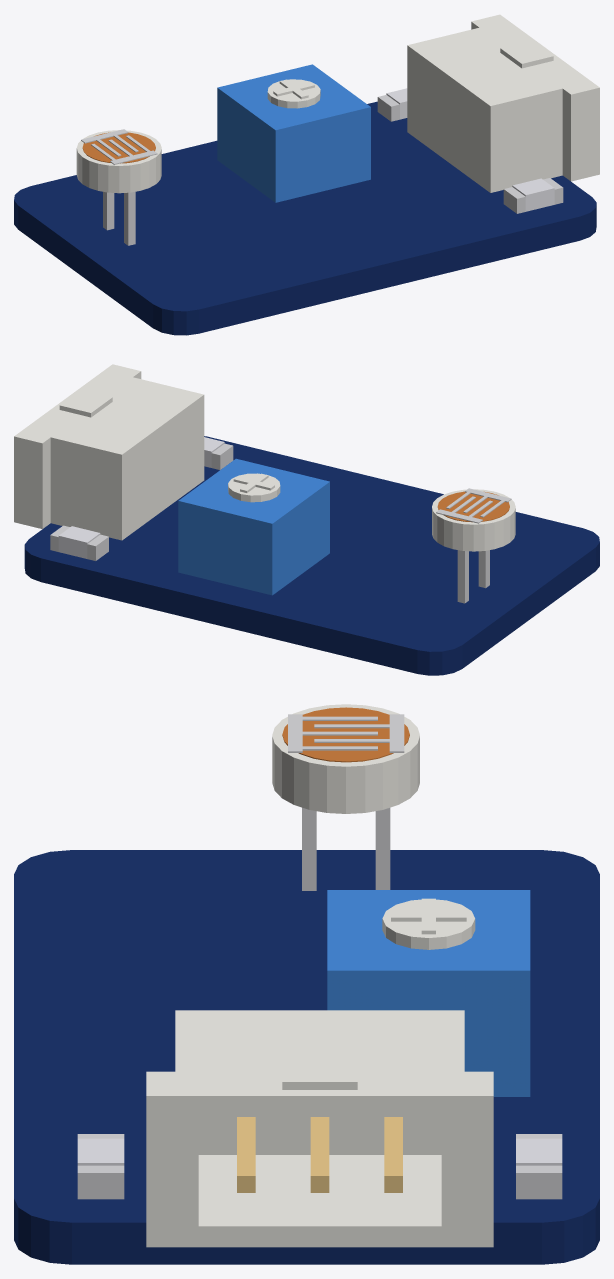
Rendered from ldr.glb.
3 renders of one model, top to bottom at view 1: azimuth 30°, elevation 25°; view 2: azimuth 150°, elevation 25°; view 3: azimuth 270°, elevation 25°, orthographic. The views are drawn at different scales.
Visible parts, largest first — view 1: ldr_pcb, ldr_xh, ldr_pot, ldr_ldr, ldr_pot_screw, ldr_ldr_cds, ldr_ldr_legs, ldr_ldr_comb, ldr_led_power, ldr_led_power_ends, ldr_led_signal_ends; view 2: ldr_pcb, ldr_xh, ldr_pot, ldr_ldr, ldr_pot_screw, ldr_ldr_cds, ldr_ldr_legs, ldr_ldr_comb, ldr_led_signal, ldr_led_signal_ends, ldr_led_power_ends; view 3: ldr_pcb, ldr_xh, ldr_pot, ldr_ldr, ldr, ldr_pot_screw, ldr_ldr_cds, ldr_ldr_comb, ldr_ldr_legs, ldr_led_power_ends, ldr_led_signal_ends, ldr_led_power (+1 smaller).
Part boxes in pixels (left/top/right/bottom): ldr_pcb: left=14, top=101, right=596, bottom=335; ldr_xh: left=407, top=14, right=599, bottom=192; ldr_pot: left=217, top=64, right=370, bottom=202; ldr_ldr: left=76, top=130, right=161, bottom=193; ldr_pot_screw: left=267, top=79, right=320, bottom=108; ldr_ldr_cds: left=82, top=132, right=155, bottom=163; ldr_ldr_legs: left=103, top=191, right=135, bottom=245; ldr_ldr_comb: left=81, top=129, right=157, bottom=164; ldr_led_power: left=512, top=178, right=554, bottom=211; ldr_led_power_ends: left=503, top=178, right=563, bottom=213; ldr_led_signal_ends: left=377, top=95, right=399, bottom=121; ldr_pcb: left=24, top=436, right=599, bottom=675; ldr_xh: left=14, top=364, right=204, bottom=540; ldr_pot: left=178, top=458, right=329, bottom=595; ldr_ldr: left=432, top=489, right=515, bottom=551; ldr_pot_screw: left=228, top=473, right=280, bottom=502; ldr_ldr_cds: left=437, top=491, right=509, bottom=522; ldr_ldr_legs: left=457, top=550, right=489, bottom=603; ldr_ldr_comb: left=436, top=488, right=511, bottom=523; ldr_led_signal: left=58, top=526, right=100, bottom=558; ldr_led_signal_ends: left=50, top=525, right=108, bottom=560; ldr_led_power_ends: left=211, top=443, right=233, bottom=469; ldr_pcb: left=14, top=850, right=599, bottom=1264; ldr_xh: left=146, top=1010, right=493, bottom=1247; ldr_pot: left=327, top=890, right=530, bottom=1096; ldr_ldr: left=272, top=704, right=419, bottom=813; ldr: left=237, top=1117, right=402, bottom=1192; ldr_pot_screw: left=382, top=898, right=475, bottom=949; ldr_ldr_cds: left=282, top=707, right=409, bottom=762; ldr_ldr_comb: left=288, top=714, right=404, bottom=752; ldr_ldr_legs: left=302, top=807, right=390, bottom=890; ldr_led_power_ends: left=77, top=1134, right=124, bottom=1199; ldr_led_signal_ends: left=516, top=1134, right=562, bottom=1199; ldr_led_power: left=77, top=1138, right=124, bottom=1165.
Size of the model in its own units: 0.0324 by 0.00915 by 0.0202.
